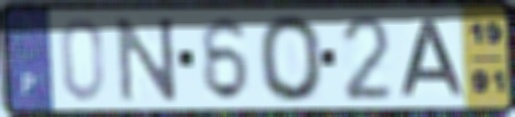0: (57, 15, 107, 104)
2: (338, 12, 396, 103)
6: (198, 14, 253, 104)
A: (397, 16, 469, 98)
N: (112, 14, 181, 105)
O: (255, 12, 327, 105)
